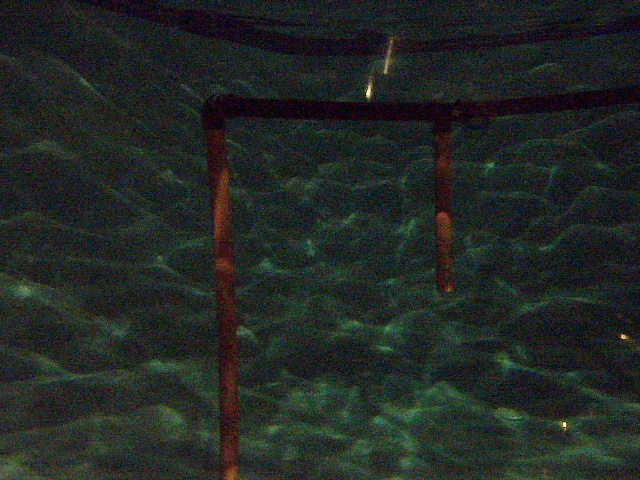Gate: (203, 121, 245, 480), (431, 123, 457, 293)
